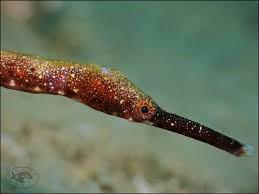Long-Snouted Pipefish: (1, 48, 250, 157)
